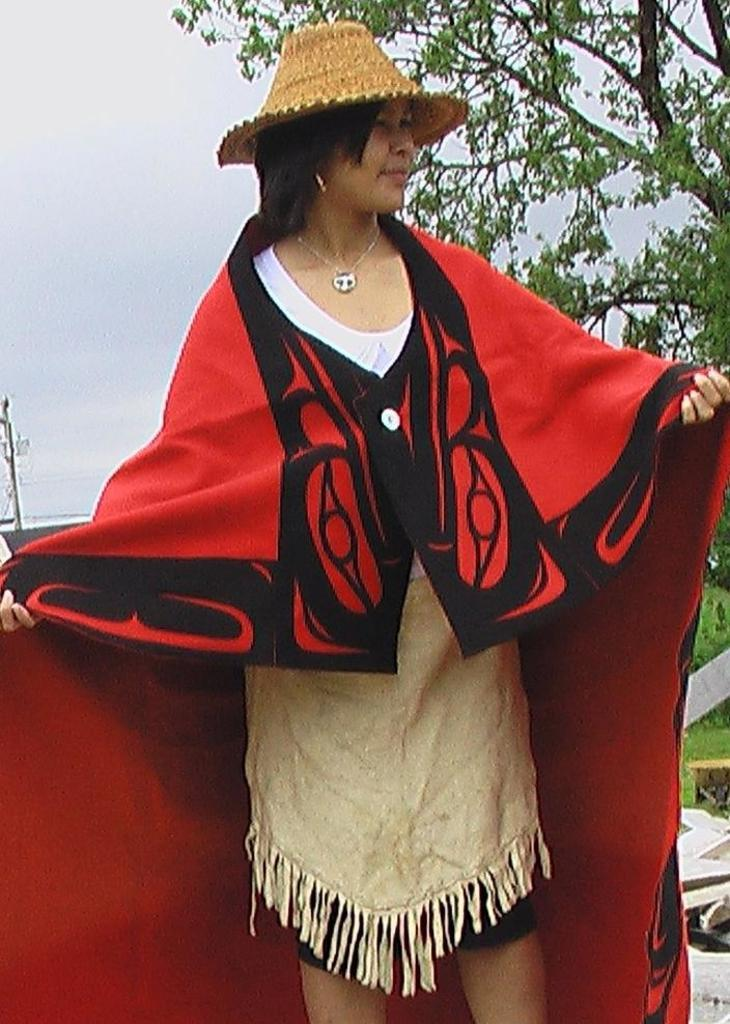Hat: (210, 14, 472, 168)
